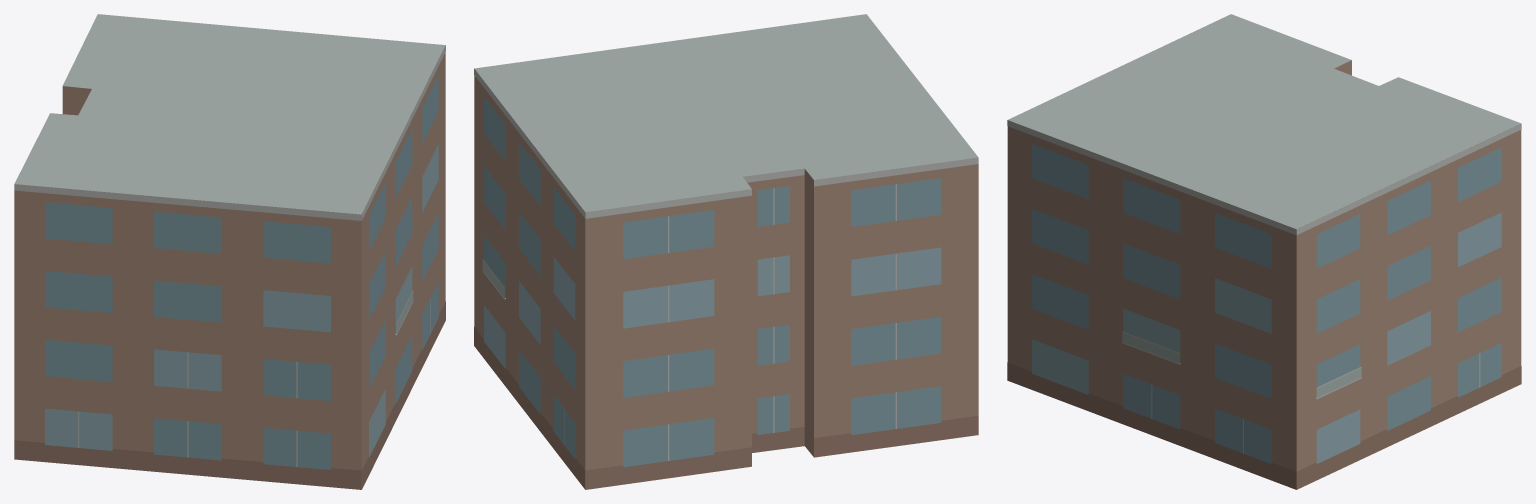
The model's file is survey-upis-32946634.glb.
3 views of the same model, side by side, from view 1: azimuth 30°, elevation 25°; view 2: azimuth 150°, elevation 25°; view 3: azimuth 270°, elevation 25° (orthographic). The views are drawn at different scales.
Visible parts, largest first — view 1: survey-upis-32946634.tmp; view 2: survey-upis-32946634.tmp; view 3: survey-upis-32946634.tmp.
Boxes of the visible parts, x1,y1,x2,y2 form: survey-upis-32946634.tmp: (14,14,445,489); survey-upis-32946634.tmp: (474,14,978,489); survey-upis-32946634.tmp: (1007,14,1521,489).
Bounding box in the file's own units: 18.52 × 10.45 × 18.69.
